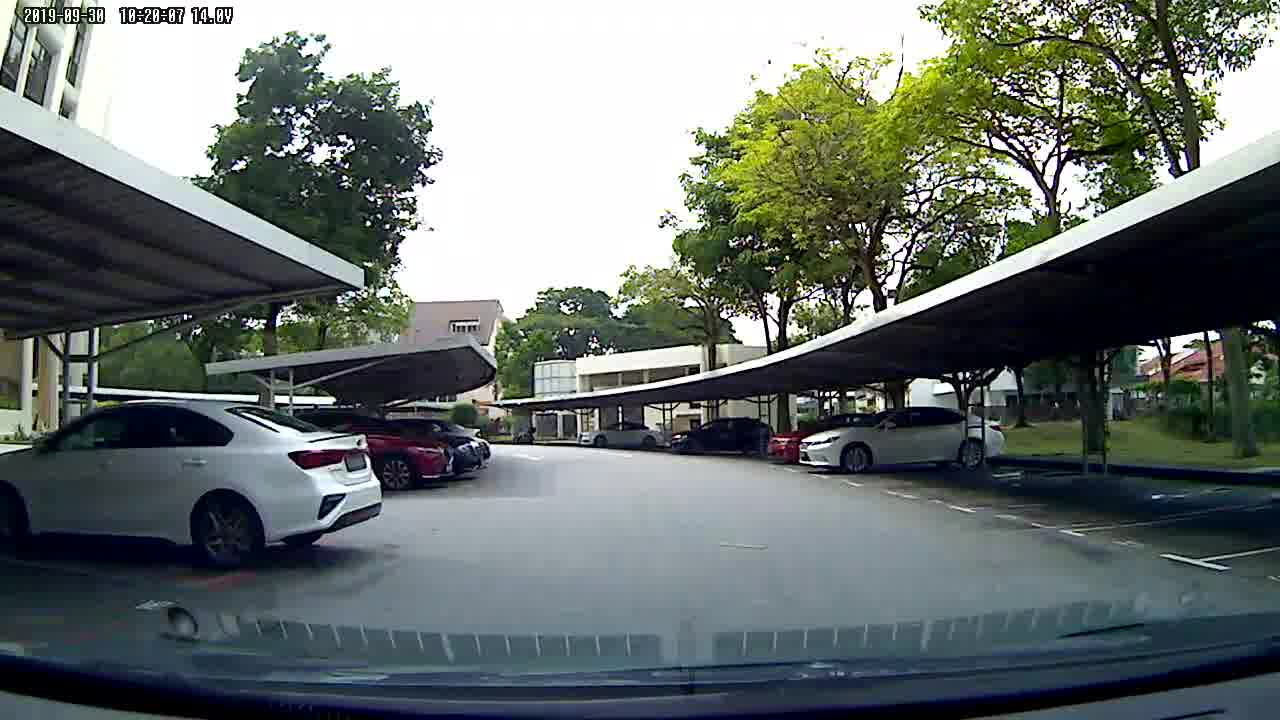car: (1, 398, 394, 581), (792, 407, 1007, 470), (369, 396, 496, 491), (666, 417, 774, 457), (578, 420, 665, 449)
